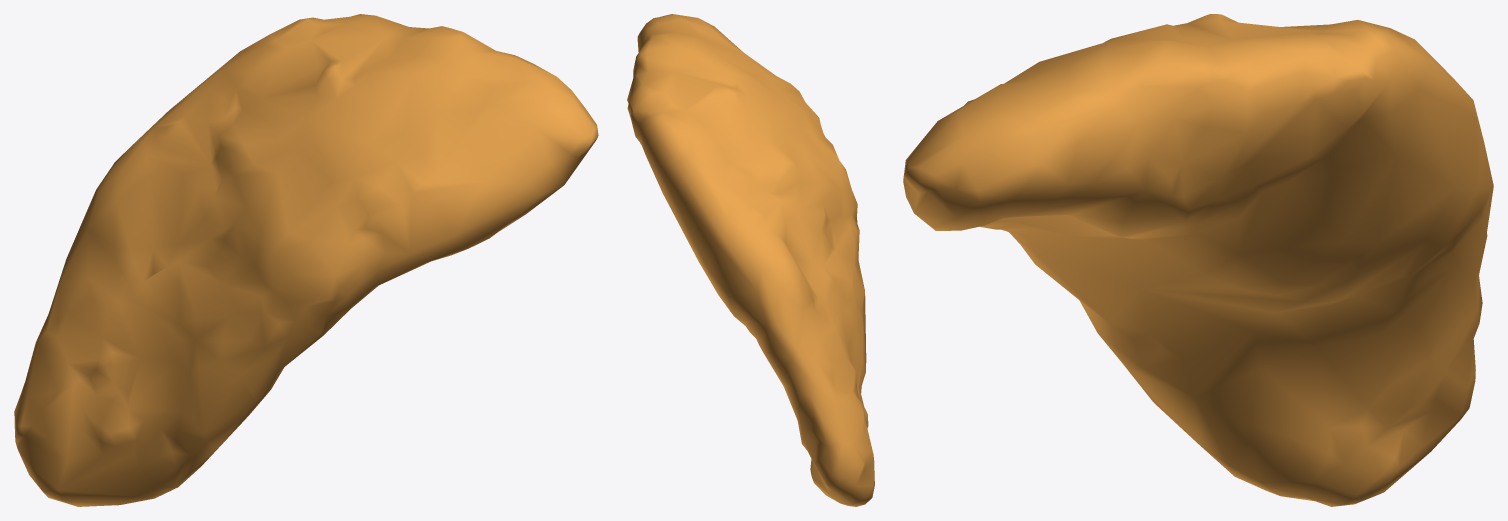
The model's file is nervoso-lacrimal-gland-r.glb.
3 views of the same model, side by side, from view 1: azimuth 30°, elevation 25°; view 2: azimuth 150°, elevation 25°; view 3: azimuth 270°, elevation 25° (orthographic). The views are drawn at different scales.
Visible parts, largest first — view 1: Lacrimal gland.r; view 2: Lacrimal gland.r; view 3: Lacrimal gland.r.
Part boxes in pixels (bbox=[...]): Lacrimal gland.r: bbox=[14, 14, 598, 506]; Lacrimal gland.r: bbox=[627, 14, 874, 506]; Lacrimal gland.r: bbox=[903, 14, 1493, 506].
Bounding box in the file's own units: 0.018 × 0.0184 × 0.0151.
